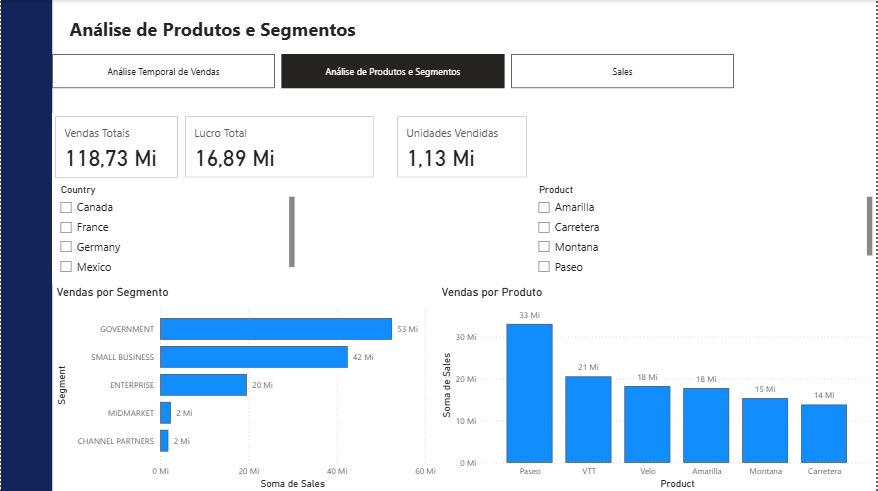

This screenshot's page, from the dashboard's own definition file:
{"tool":"powerbi","page":{"name":"Análise de Produtos e Segmentos","canvas":[1280,720],"ordinal":14},"visuals":[{"type":"shape","box":[0,0,75,720],"z":0},{"type":"textbox","box":[94.9,19.6,438.7,45.8],"z":1000},{"type":"cardVisual","title":"KPI Vendas Totais","fields":{"Data":["Sum(financials. Sales)"]},"box":[75.3,165.3,189.2,100],"z":2000},{"type":"cardVisual","title":"KPI Lucro Total","fields":{"Data":["Sum(financials.Profit)"]},"box":[265.2,165.3,286.4,99.8],"z":3000},{"type":"cardVisual","title":"KPI Unidades Vendidas","fields":{"Data":["Sum(financials.Units Sold)"]},"box":[574.5,165.3,199.7,99.8],"z":4000},{"type":"clusteredBarChart","title":"Vendas por Segmento","fields":{"Category":["financials.Segment"],"Y":["Sum(financials. Sales)"]},"box":[75.4,416.9,564.6,303.1],"z":5000},{"type":"clusteredColumnChart","title":"Vendas por Produto","fields":{"Category":["financials.Product"],"Y":["Sum(financials. Sales)"]},"box":[640,416.9,640,303.1],"z":7000},{"type":"pageNavigator","box":[75.3,78.6,1000,50],"z":12000},{"type":"slicer","fields":{"Values":["financials.Country"]},"box":[75.3,265.2,360.1,150.6],"z":13000},{"type":"slicer","fields":{"Values":["financials.Product"]},"box":[774.2,265.2,505.8,150.6],"z":14000}]}

Visuals, with their boxes in screenshot pixels (x1, y1, x2, y2), scaled from the page's 1280x720 canvas onto the 878x491 screenshot:
shape: (0,0,51,490)
textbox: (65,13,366,45)
"KPI Vendas Totais" cardVisual: (52,113,181,181)
"KPI Lucro Total" cardVisual: (182,113,378,181)
"KPI Unidades Vendidas" cardVisual: (394,113,531,181)
"Vendas por Segmento" clusteredBarChart: (52,284,439,490)
"Vendas por Produto" clusteredColumnChart: (439,284,877,490)
pageNavigator: (52,54,738,88)
slicer - financials.Country: (52,181,299,284)
slicer - financials.Product: (531,181,877,284)
